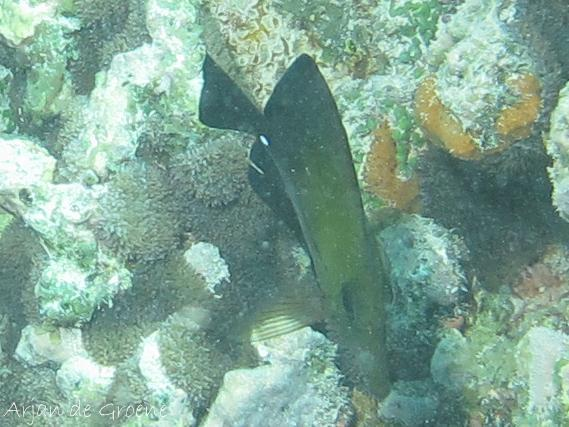Fish: (151, 39, 496, 414)
